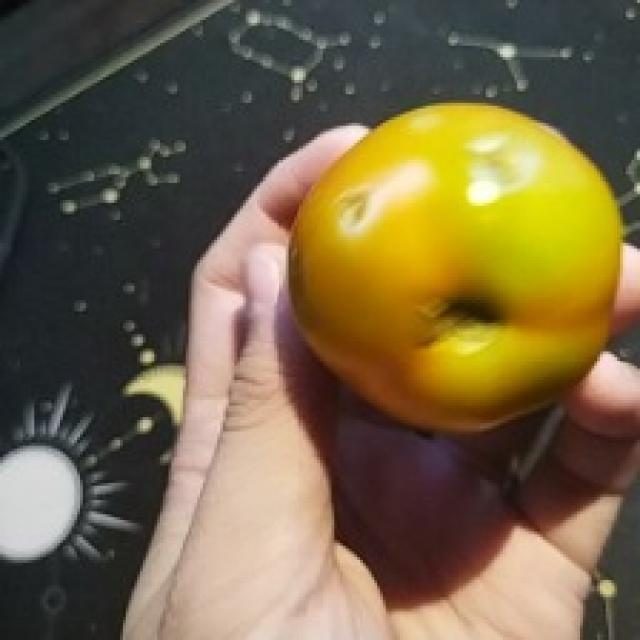Rotten Tomato: (280, 94, 640, 428)
